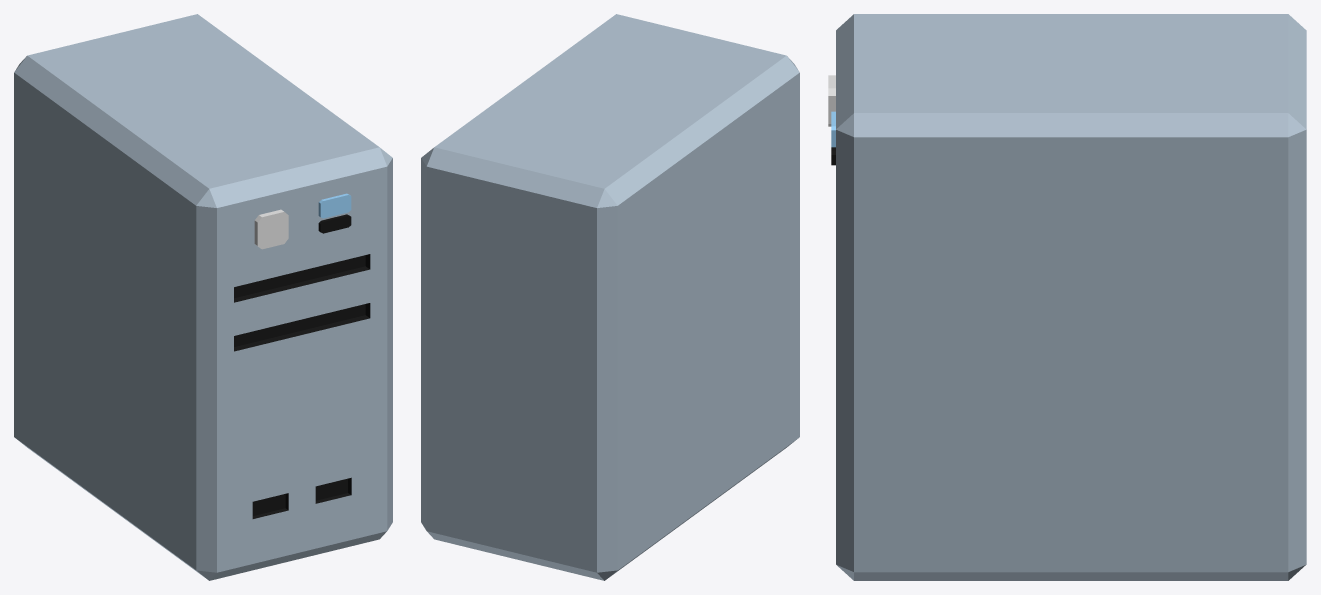
Rendered from computer.fbx.
3 views of the same model, side by side, from view 1: azimuth 30°, elevation 25°; view 2: azimuth 150°, elevation 25°; view 3: azimuth 270°, elevation 25° (orthographic). The views are drawn at different scales.
Visible parts, largest first — view 1: computer; view 2: computer; view 3: computer.
Part boxes in pixels (left/top/right/bottom): computer: left=14, top=14, right=392, bottom=580; computer: left=421, top=14, right=799, bottom=580; computer: left=828, top=14, right=1306, bottom=580.
Size of the model in its own units: 0.3827 by 0.7292 by 0.6755.
2 materials, 1 textured.
